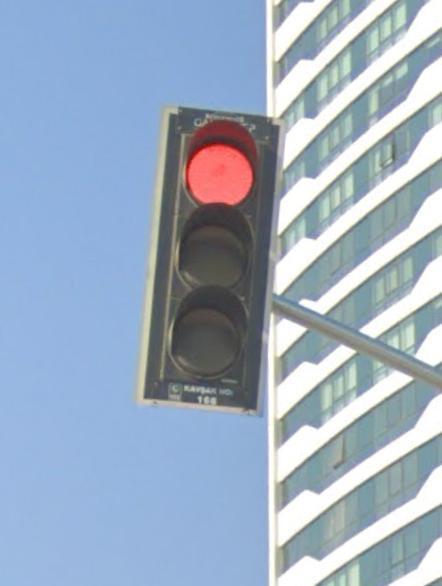redlight: (165, 110, 270, 416)
